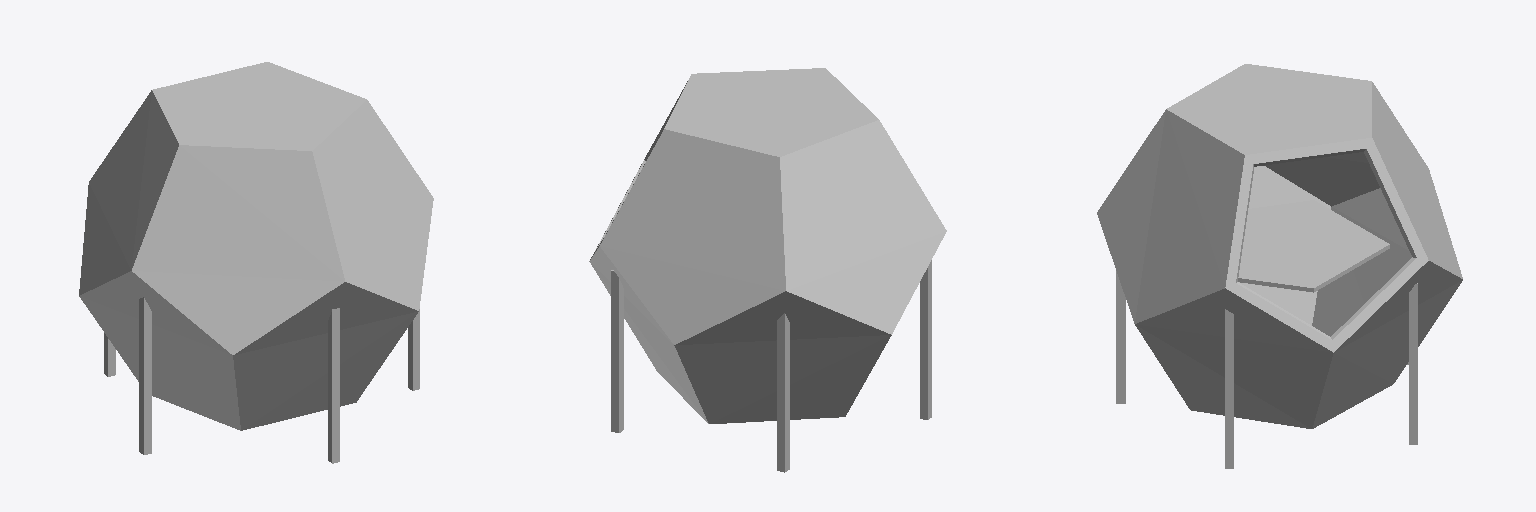
File: HomeHash23A654.obj
3 views of the same model, side by side, from view 1: azimuth 30°, elevation 25°; view 2: azimuth 150°, elevation 25°; view 3: azimuth 270°, elevation 25° (orthographic).
Parts seen in each view (by area): view 1: Cylinder.001_Cylinder.009; view 2: Cylinder.001_Cylinder.009; view 3: Cylinder.001_Cylinder.009.
Part boxes in pixels (bbox=[...]): Cylinder.001_Cylinder.009: bbox=[79, 62, 433, 463]; Cylinder.001_Cylinder.009: bbox=[589, 68, 946, 472]; Cylinder.001_Cylinder.009: bbox=[1097, 64, 1462, 468].
Size of the model in its own units: 16.3 by 15.04 by 17.06.